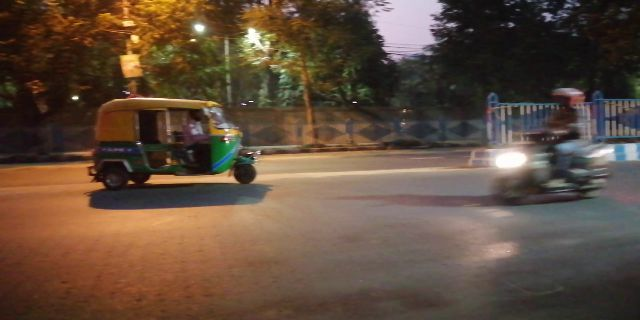Autorickshaw: (87, 98, 264, 198)
Motorbike: (473, 93, 609, 214)
